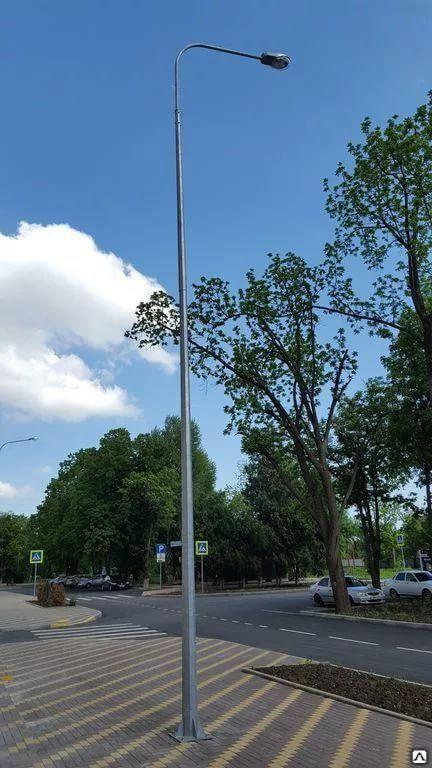Animal: (155, 30, 301, 768)
